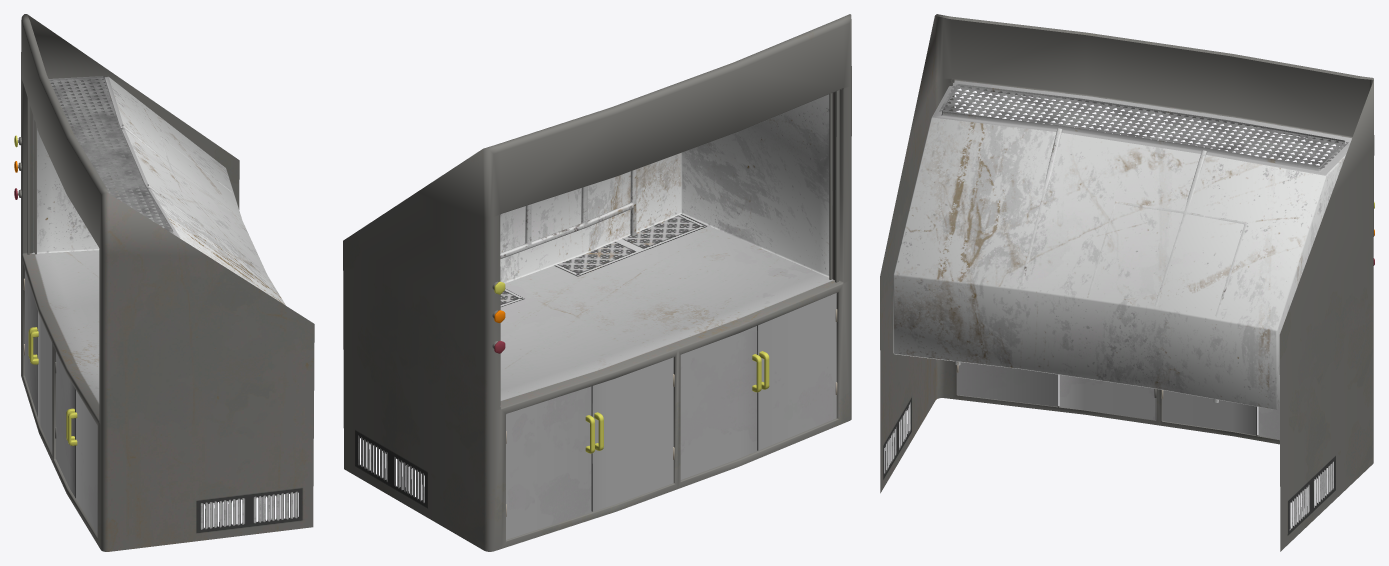
The model's file is SM_Lab_FumeHood.obj.
The picture shows the model from 3 angles, left to right: view 1: azimuth 30°, elevation 25°; view 2: azimuth 150°, elevation 25°; view 3: azimuth 270°, elevation 25°; orthographic projection. The views are drawn at different scales.
Parts seen in each view (by area): view 1: SM_Lab_FumeHood; view 2: SM_Lab_FumeHood; view 3: SM_Lab_FumeHood.
Boxes of the visible parts, left/top/right/bottom form: SM_Lab_FumeHood: left=14, top=14, right=314, bottom=551; SM_Lab_FumeHood: left=343, top=14, right=851, bottom=551; SM_Lab_FumeHood: left=880, top=14, right=1374, bottom=551.
Size of the model in its own units: 361 by 419 by 488.
2 materials, 2 textured.
